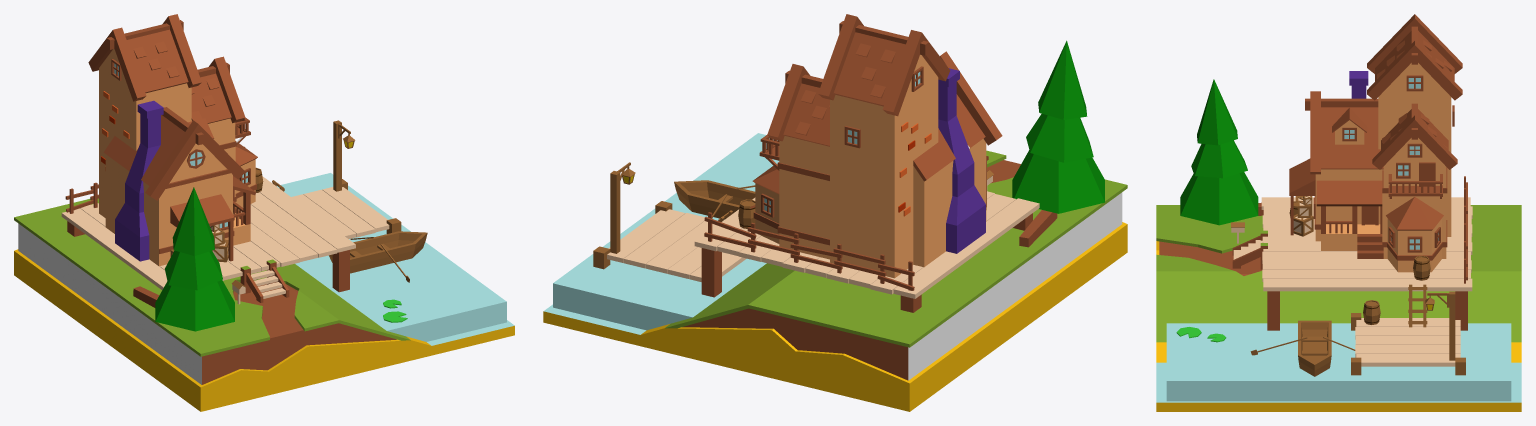
The model's file is Low+poly+House.fbx.
3 renders of one model, left to right at view 1: azimuth 30°, elevation 25°; view 2: azimuth 150°, elevation 25°; view 3: azimuth 270°, elevation 25°, orthographic. The views are drawn at different scales.
Parts seen in each view (by area): view 1: Model, Group54, Group76, Group92, Group26, Group74, Group53, Group52, Group66, Group2, Group72, Group69 (+6 smaller); view 2: Model, Group76, Group54, Group74, Group53, Group52, Group2, Group92, Group1, Group26, Group11, Group90 (+3 smaller); view 3: Model, Group76, Group54, Group66, Group72, Group1, Group92, Group69, Group53, Group52, Group11, Group2 (+15 smaller).
Boxes of the visible parts, x1=… form: Model: x1=14, y1=23, x2=514, y2=411; Group54: x1=155, y1=280, x2=234, y2=331; Group76: x1=291, y1=187, x2=389, y2=238; Group92: x1=329, y1=231, x2=427, y2=273; Group26: x1=145, y1=120, x2=245, y2=200; Group74: x1=61, y1=208, x2=167, y2=289; Group53: x1=165, y1=250, x2=222, y2=290; Group52: x1=172, y1=187, x2=214, y2=255; Group66: x1=259, y1=176, x2=355, y2=252; Group2: x1=88, y1=27, x2=146, y2=101; Group72: x1=251, y1=192, x2=337, y2=257; Group69: x1=239, y1=204, x2=318, y2=261; Model: x1=543, y1=25, x2=1127, y2=411; Group76: x1=607, y1=209, x2=746, y2=281; Group54: x1=1012, y1=150, x2=1104, y2=213; Group74: x1=893, y1=198, x2=1039, y2=298; Group53: x1=1026, y1=114, x2=1093, y2=162; Group52: x1=1038, y1=40, x2=1087, y2=119; Group2: x1=882, y1=30, x2=950, y2=116; Group92: x1=674, y1=180, x2=755, y2=219; Group1: x1=818, y1=14, x2=863, y2=100; Group26: x1=940, y1=51, x2=1002, y2=145; Group11: x1=767, y1=64, x2=810, y2=141; Group90: x1=610, y1=162, x2=630, y2=253; Model: x1=1156, y1=26, x2=1521, y2=411; Group76: x1=1355, y1=318, x2=1460, y2=366; Group54: x1=1180, y1=172, x2=1258, y2=225; Group66: x1=1263, y1=278, x2=1472, y2=291; Group72: x1=1262, y1=269, x2=1470, y2=281; Group1: x1=1367, y1=41, x2=1462, y2=100; Group92: x1=1298, y1=320, x2=1331, y2=376; Group69: x1=1262, y1=260, x2=1471, y2=272; Group53: x1=1191, y1=140, x2=1247, y2=178; Group52: x1=1197, y1=79, x2=1237, y2=145; Group11: x1=1372, y1=115, x2=1457, y2=169; Group2: x1=1367, y1=14, x2=1462, y2=73.
Bounding box in the file's own units: 354 × 284 × 350.
